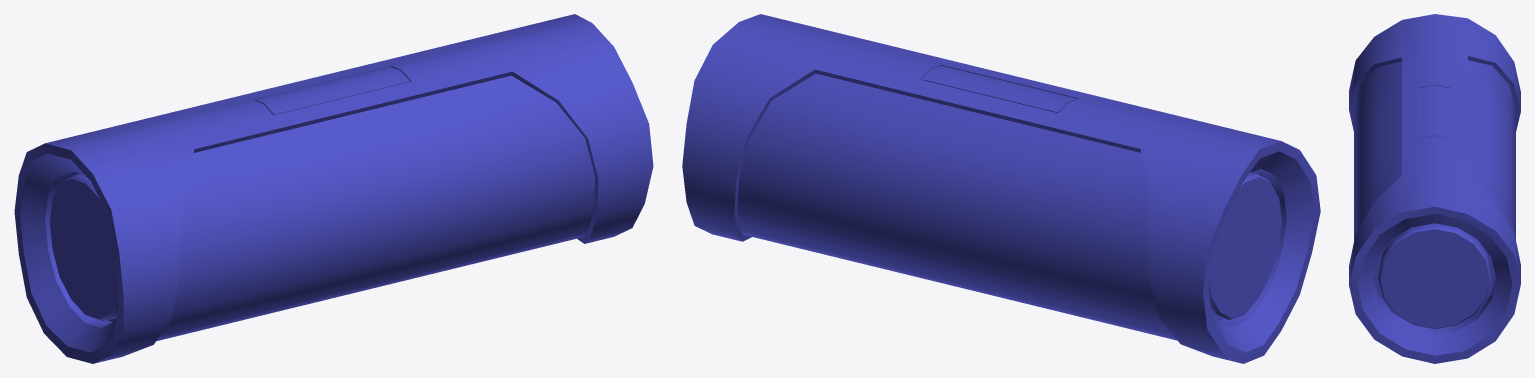
File: JBL.fbx
3 views of the same model, side by side, from view 1: azimuth 30°, elevation 25°; view 2: azimuth 150°, elevation 25°; view 3: azimuth 270°, elevation 25° (orthographic). The views are drawn at different scales.
Parts seen in each view (by area): view 1: JBL; view 2: JBL; view 3: JBL.
Boxes of the visible parts, left/top/right/bottom form: JBL: left=14, top=14, right=653, bottom=363; JBL: left=682, top=14, right=1320, bottom=363; JBL: left=1349, top=14, right=1520, bottom=363.
Size of the model in its own units: 158 by 58.25 by 58.25.
